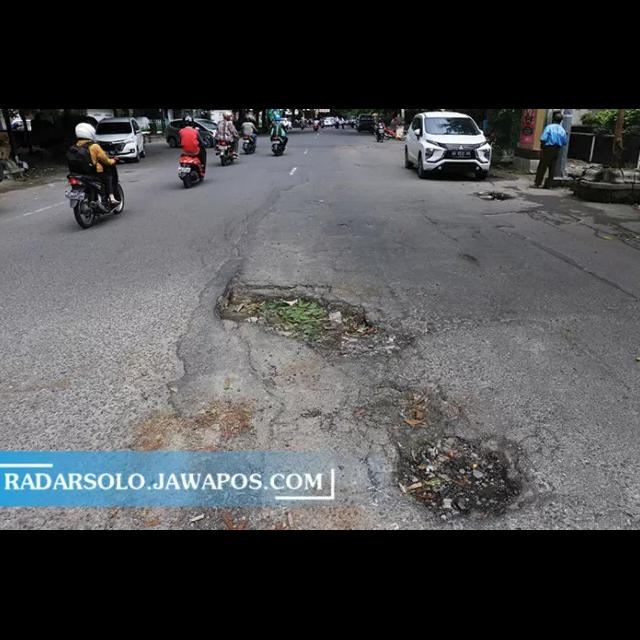lubang_kecil: (203, 268, 392, 365), (381, 405, 532, 520), (470, 182, 517, 208)
